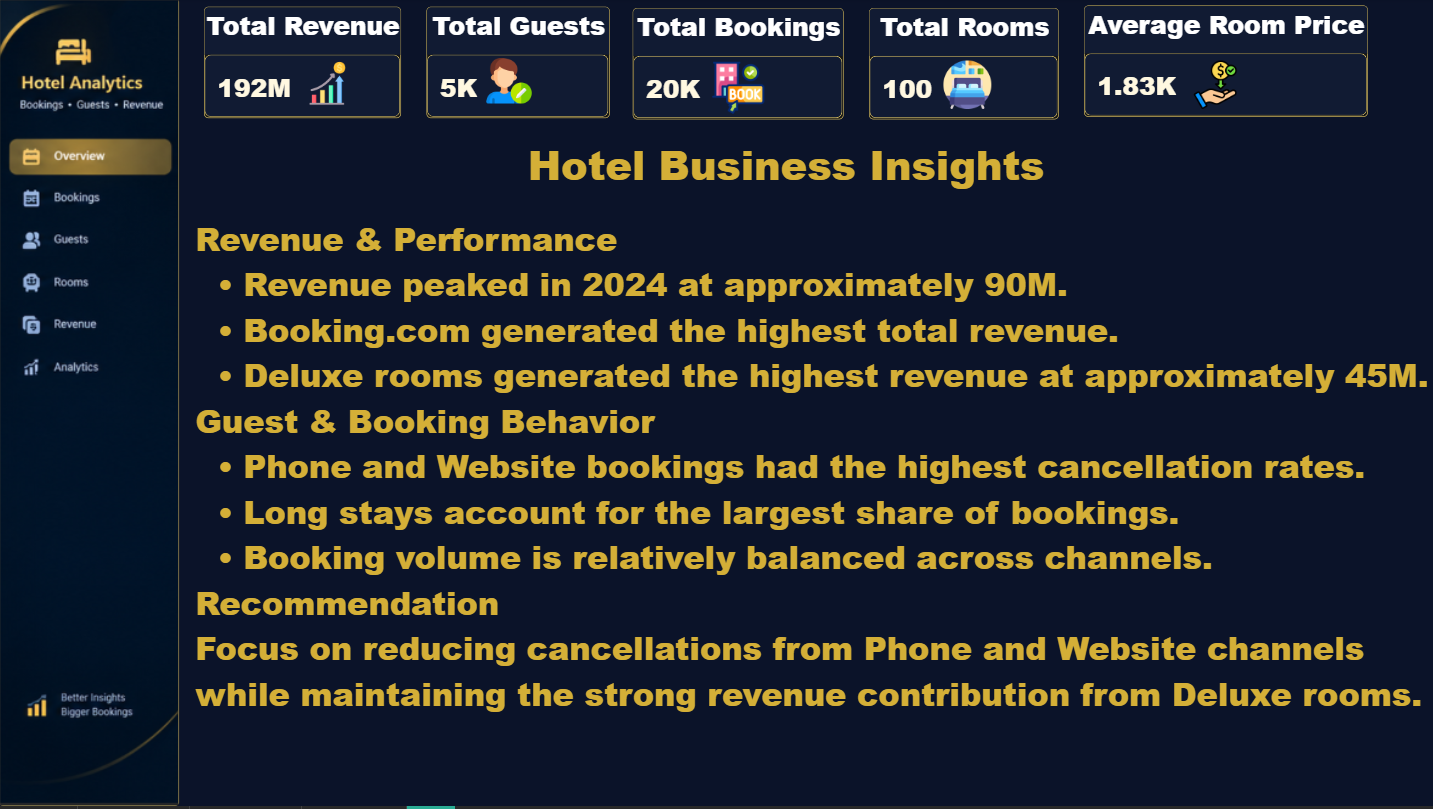

The dashboard page shown, as its layout file describes it:
{"tool":"powerbi","page":{"name":"Insights","canvas":[1920,1080],"ordinal":3},"visuals":[{"type":"textbox","box":[261.4,290.8,1658.3,745.4],"z":0},{"type":"textbox","box":[274.2,185.9,1555.2,104.9],"z":1},{"type":"image","box":[0,0,241.1,1080.4],"z":2},{"type":"cardVisual","title":"Total Revenue","fields":{"Data":["Measure.total_revenue"]},"box":[273.5,11.4,263.2,149.1],"z":3},{"type":"cardVisual","title":"Total Guests","fields":{"Data":["Measure.total_guests"]},"box":[571.7,11.4,244.8,149.1],"z":4},{"type":"cardVisual","title":"Average Room Price","fields":{"Data":["Measure.avg_room_price"]},"box":[1449.6,9.6,379.1,149.1],"z":5},{"type":"cardVisual","title":"Total Rooms","fields":{"Data":["Measure.total_rooms"]},"box":[1162.5,13.3,254,149.1],"z":6},{"type":"cardVisual","title":"Total Bookings","fields":{"Data":["Measure.total_bookings"]},"box":[845.9,13.3,281.6,149.1],"z":7},{"type":"image","box":[391.3,83.9,95.7,60.7],"z":8},{"type":"image","box":[643.4,80.2,77.3,60.7],"z":9},{"type":"image","box":[936.1,85.8,101.2,69.9],"z":10},{"type":"image","box":[1243.4,83.9,99.4,64.4],"z":11},{"type":"image","box":[1578.4,83.9,93.9,64.4],"z":12}]}

Visuals, with their boxes on the page's 1920x1080 design canvas (x1, y1, x2, y2). These are canvas units, not pixel positions in the 1433x809 screenshot, which may show the page scaled, cropped or inside an application window:
textbox: BBox(261, 291, 1920, 1036)
textbox: BBox(274, 186, 1829, 291)
image: BBox(0, 0, 241, 1080)
"Total Revenue" cardVisual: BBox(274, 11, 537, 160)
"Total Guests" cardVisual: BBox(572, 11, 816, 160)
"Average Room Price" cardVisual: BBox(1450, 10, 1829, 159)
"Total Rooms" cardVisual: BBox(1162, 13, 1416, 162)
"Total Bookings" cardVisual: BBox(846, 13, 1128, 162)
image: BBox(391, 84, 487, 145)
image: BBox(643, 80, 721, 141)
image: BBox(936, 86, 1037, 156)
image: BBox(1243, 84, 1343, 148)
image: BBox(1578, 84, 1672, 148)
